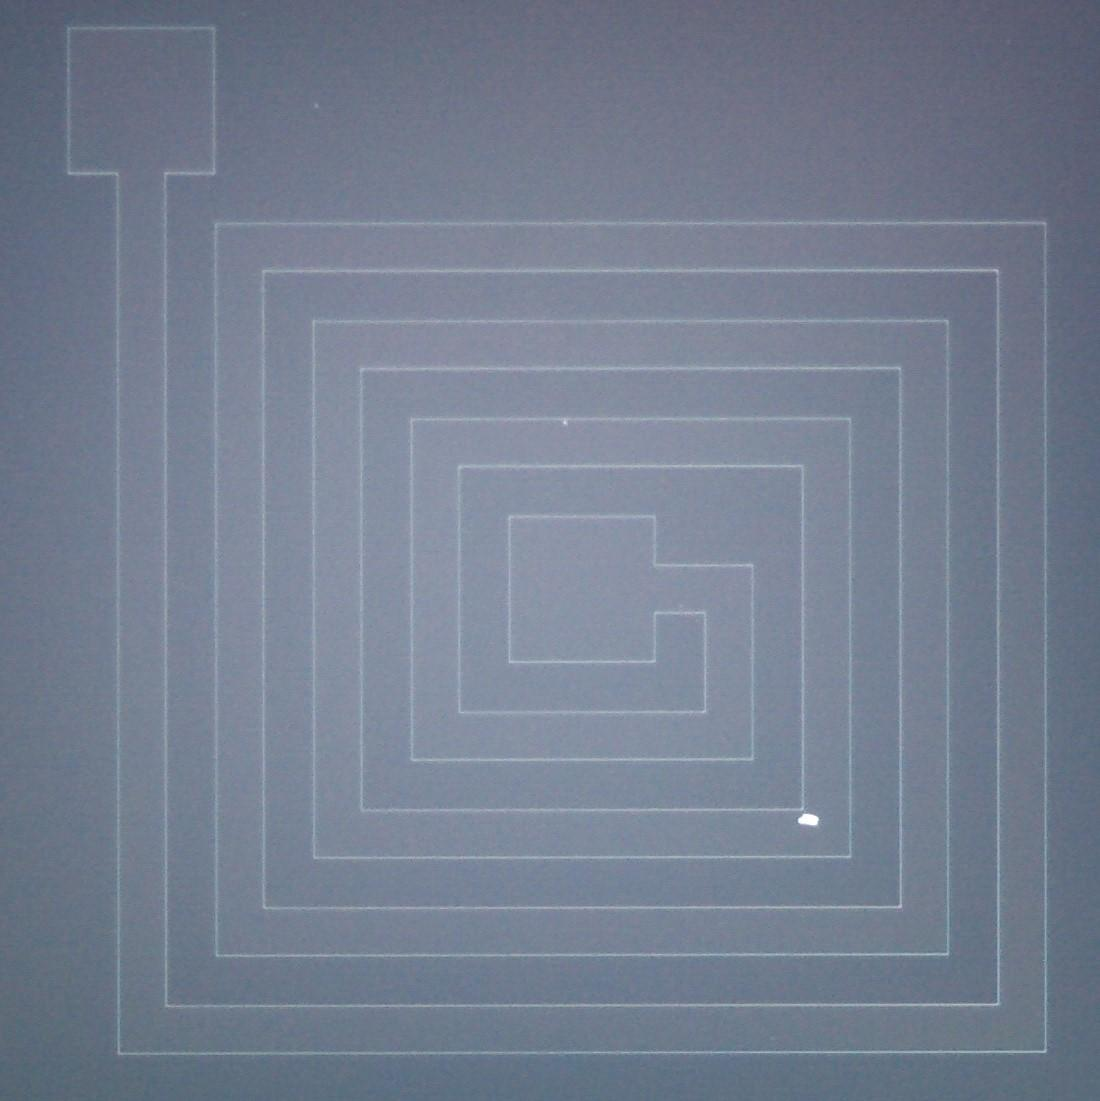B_point: (789, 807, 827, 831)
s_point: (307, 96, 326, 114), (556, 414, 573, 431)
